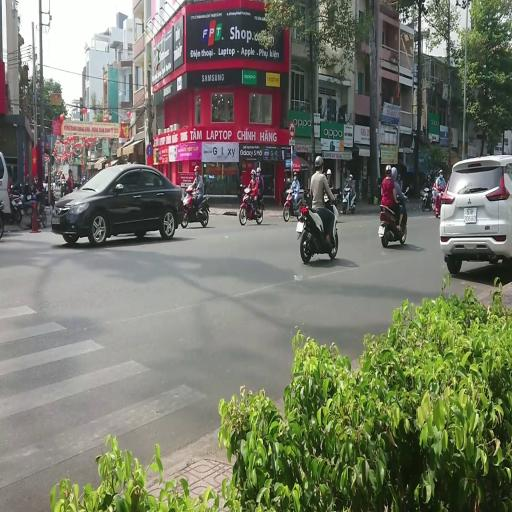bikes: (295, 195, 339, 263), (378, 186, 409, 248), (8, 181, 46, 228), (180, 186, 210, 228), (239, 187, 264, 225), (28, 184, 47, 227), (283, 187, 306, 221), (8, 182, 24, 223), (342, 176, 356, 214), (431, 185, 444, 217), (421, 184, 432, 210), (0, 199, 5, 239), (331, 186, 341, 205), (54, 170, 64, 188), (60, 178, 68, 198)
helmet: (314, 155, 324, 168), (292, 158, 301, 172), (392, 166, 398, 182), (386, 164, 392, 174), (285, 179, 292, 187), (34, 172, 38, 184), (250, 169, 256, 176), (438, 168, 443, 176), (244, 188, 250, 194), (194, 165, 199, 172), (256, 167, 261, 173), (287, 188, 292, 194), (327, 168, 331, 175), (82, 176, 86, 182), (293, 171, 297, 176), (68, 168, 72, 173), (61, 174, 65, 178), (350, 174, 352, 180), (428, 174, 430, 180), (398, 174, 400, 179), (424, 183, 426, 188)
